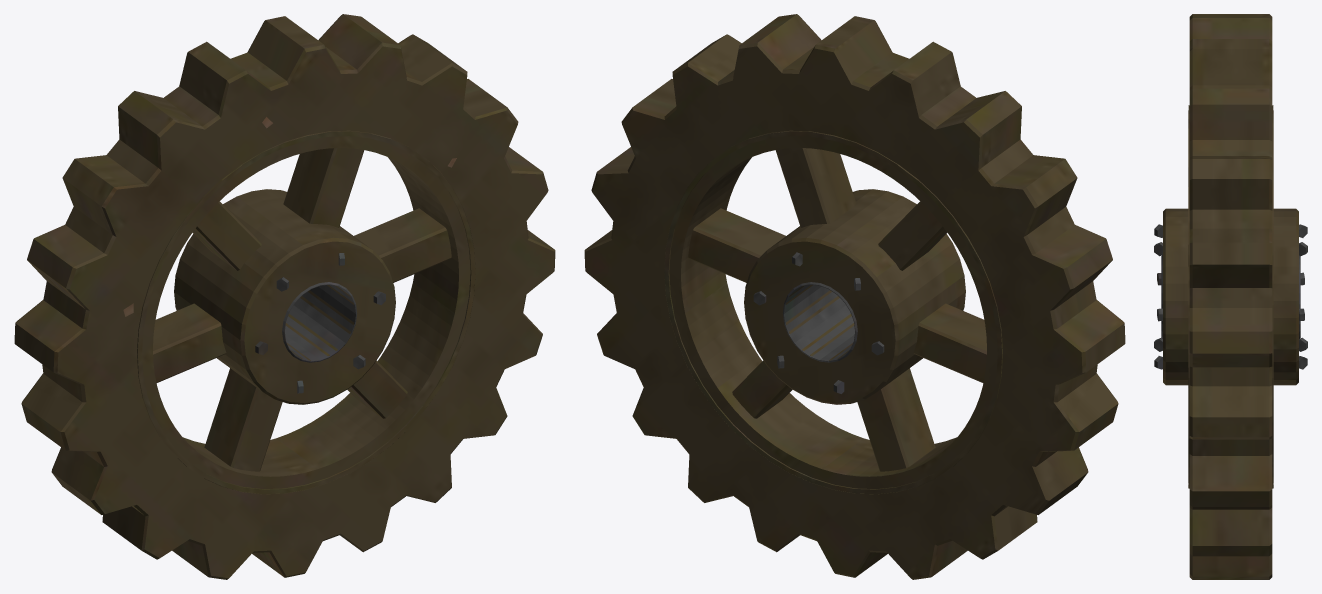
File: Y27_large_brass_gear_v1.glb
3 renders of one model, left to right at view 1: azimuth 30°, elevation 25°; view 2: azimuth 150°, elevation 25°; view 3: azimuth 270°, elevation 25°, orthographic.
Parts seen in each view (by area): view 1: Cast toothed brass rim; view 2: Cast toothed brass rim; view 3: Cast toothed brass rim.
Part boxes in pixels (x1,y1,x2,y2): Cast toothed brass rim: (14, 14, 555, 579); Cast toothed brass rim: (584, 14, 1125, 579); Cast toothed brass rim: (1154, 14, 1307, 579).
Bounding box in the file's own units: 1 × 1 × 0.2699.
3 materials, 3 textured.
